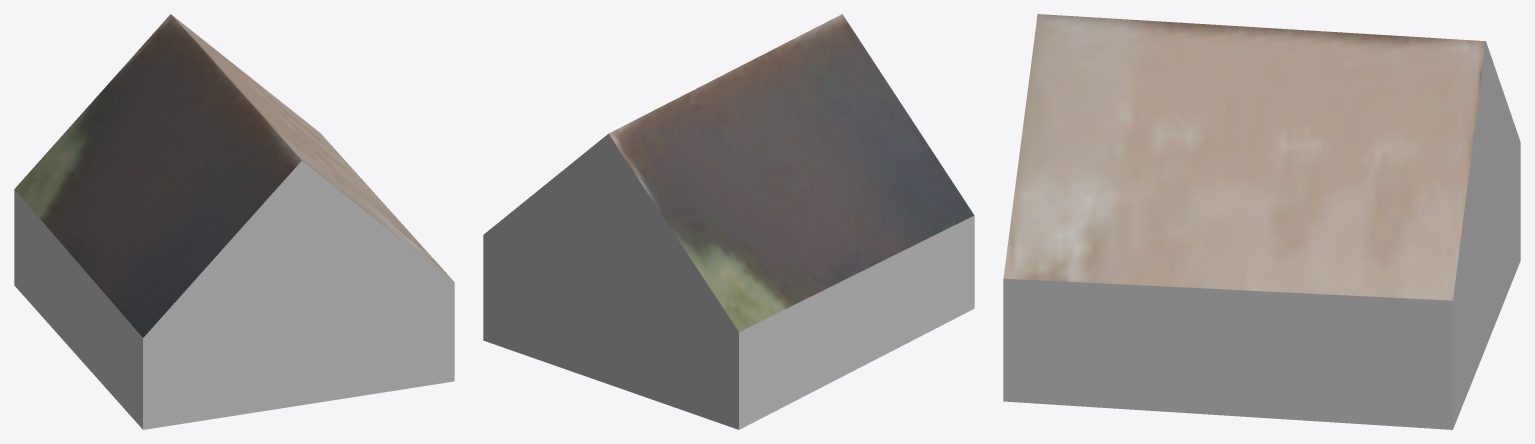
File: DEBW_0010007Tx9V.gltf
The picture shows the model from 3 angles, left to right: view 1: azimuth 30°, elevation 25°; view 2: azimuth 150°, elevation 25°; view 3: azimuth 270°, elevation 25°; orthographic projection. The views are drawn at different scales.
Visible parts, largest first — view 1: Z_UP; view 2: Z_UP; view 3: Z_UP.
Boxes of the visible parts, box(x1,y1,x2,y2) form: Z_UP: box(14, 14, 454, 429); Z_UP: box(483, 14, 974, 429); Z_UP: box(1003, 14, 1520, 429).
Size of the model in its own units: 16.1 by 11.49 by 17.59.
Materials: 2 (1 with a texture image).
